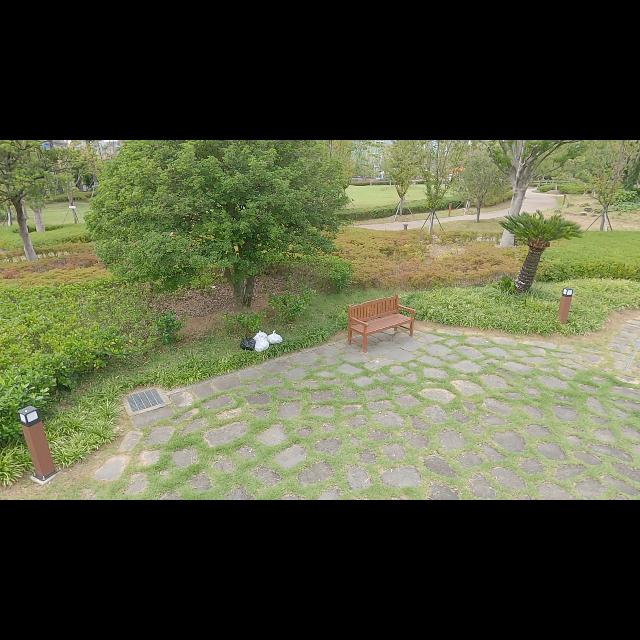trash: (240, 334, 256, 352), (254, 338, 270, 352), (266, 329, 282, 343), (254, 328, 268, 342)
